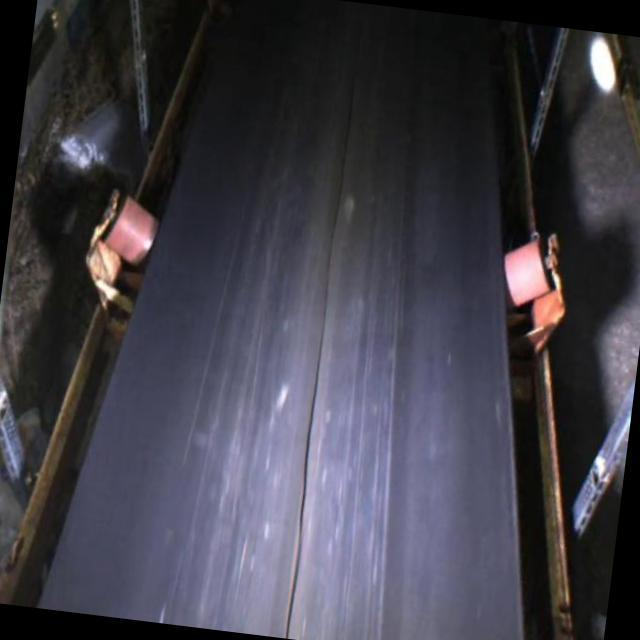Tear: (278, 0, 372, 640)
